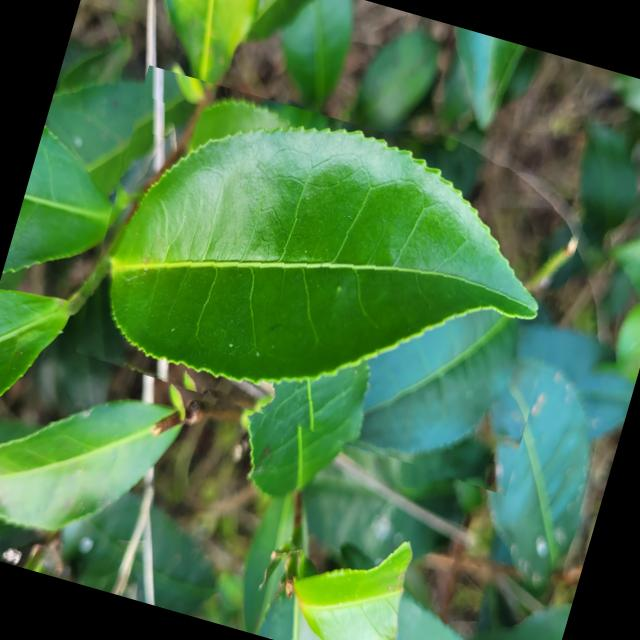Category D(7+ days, Not for Tea): (59, 64, 590, 496)
